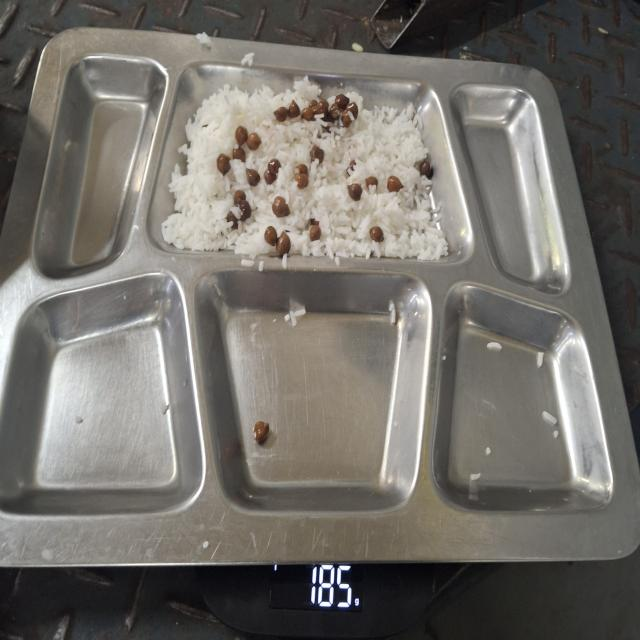Pulao: (169, 74, 450, 266)
